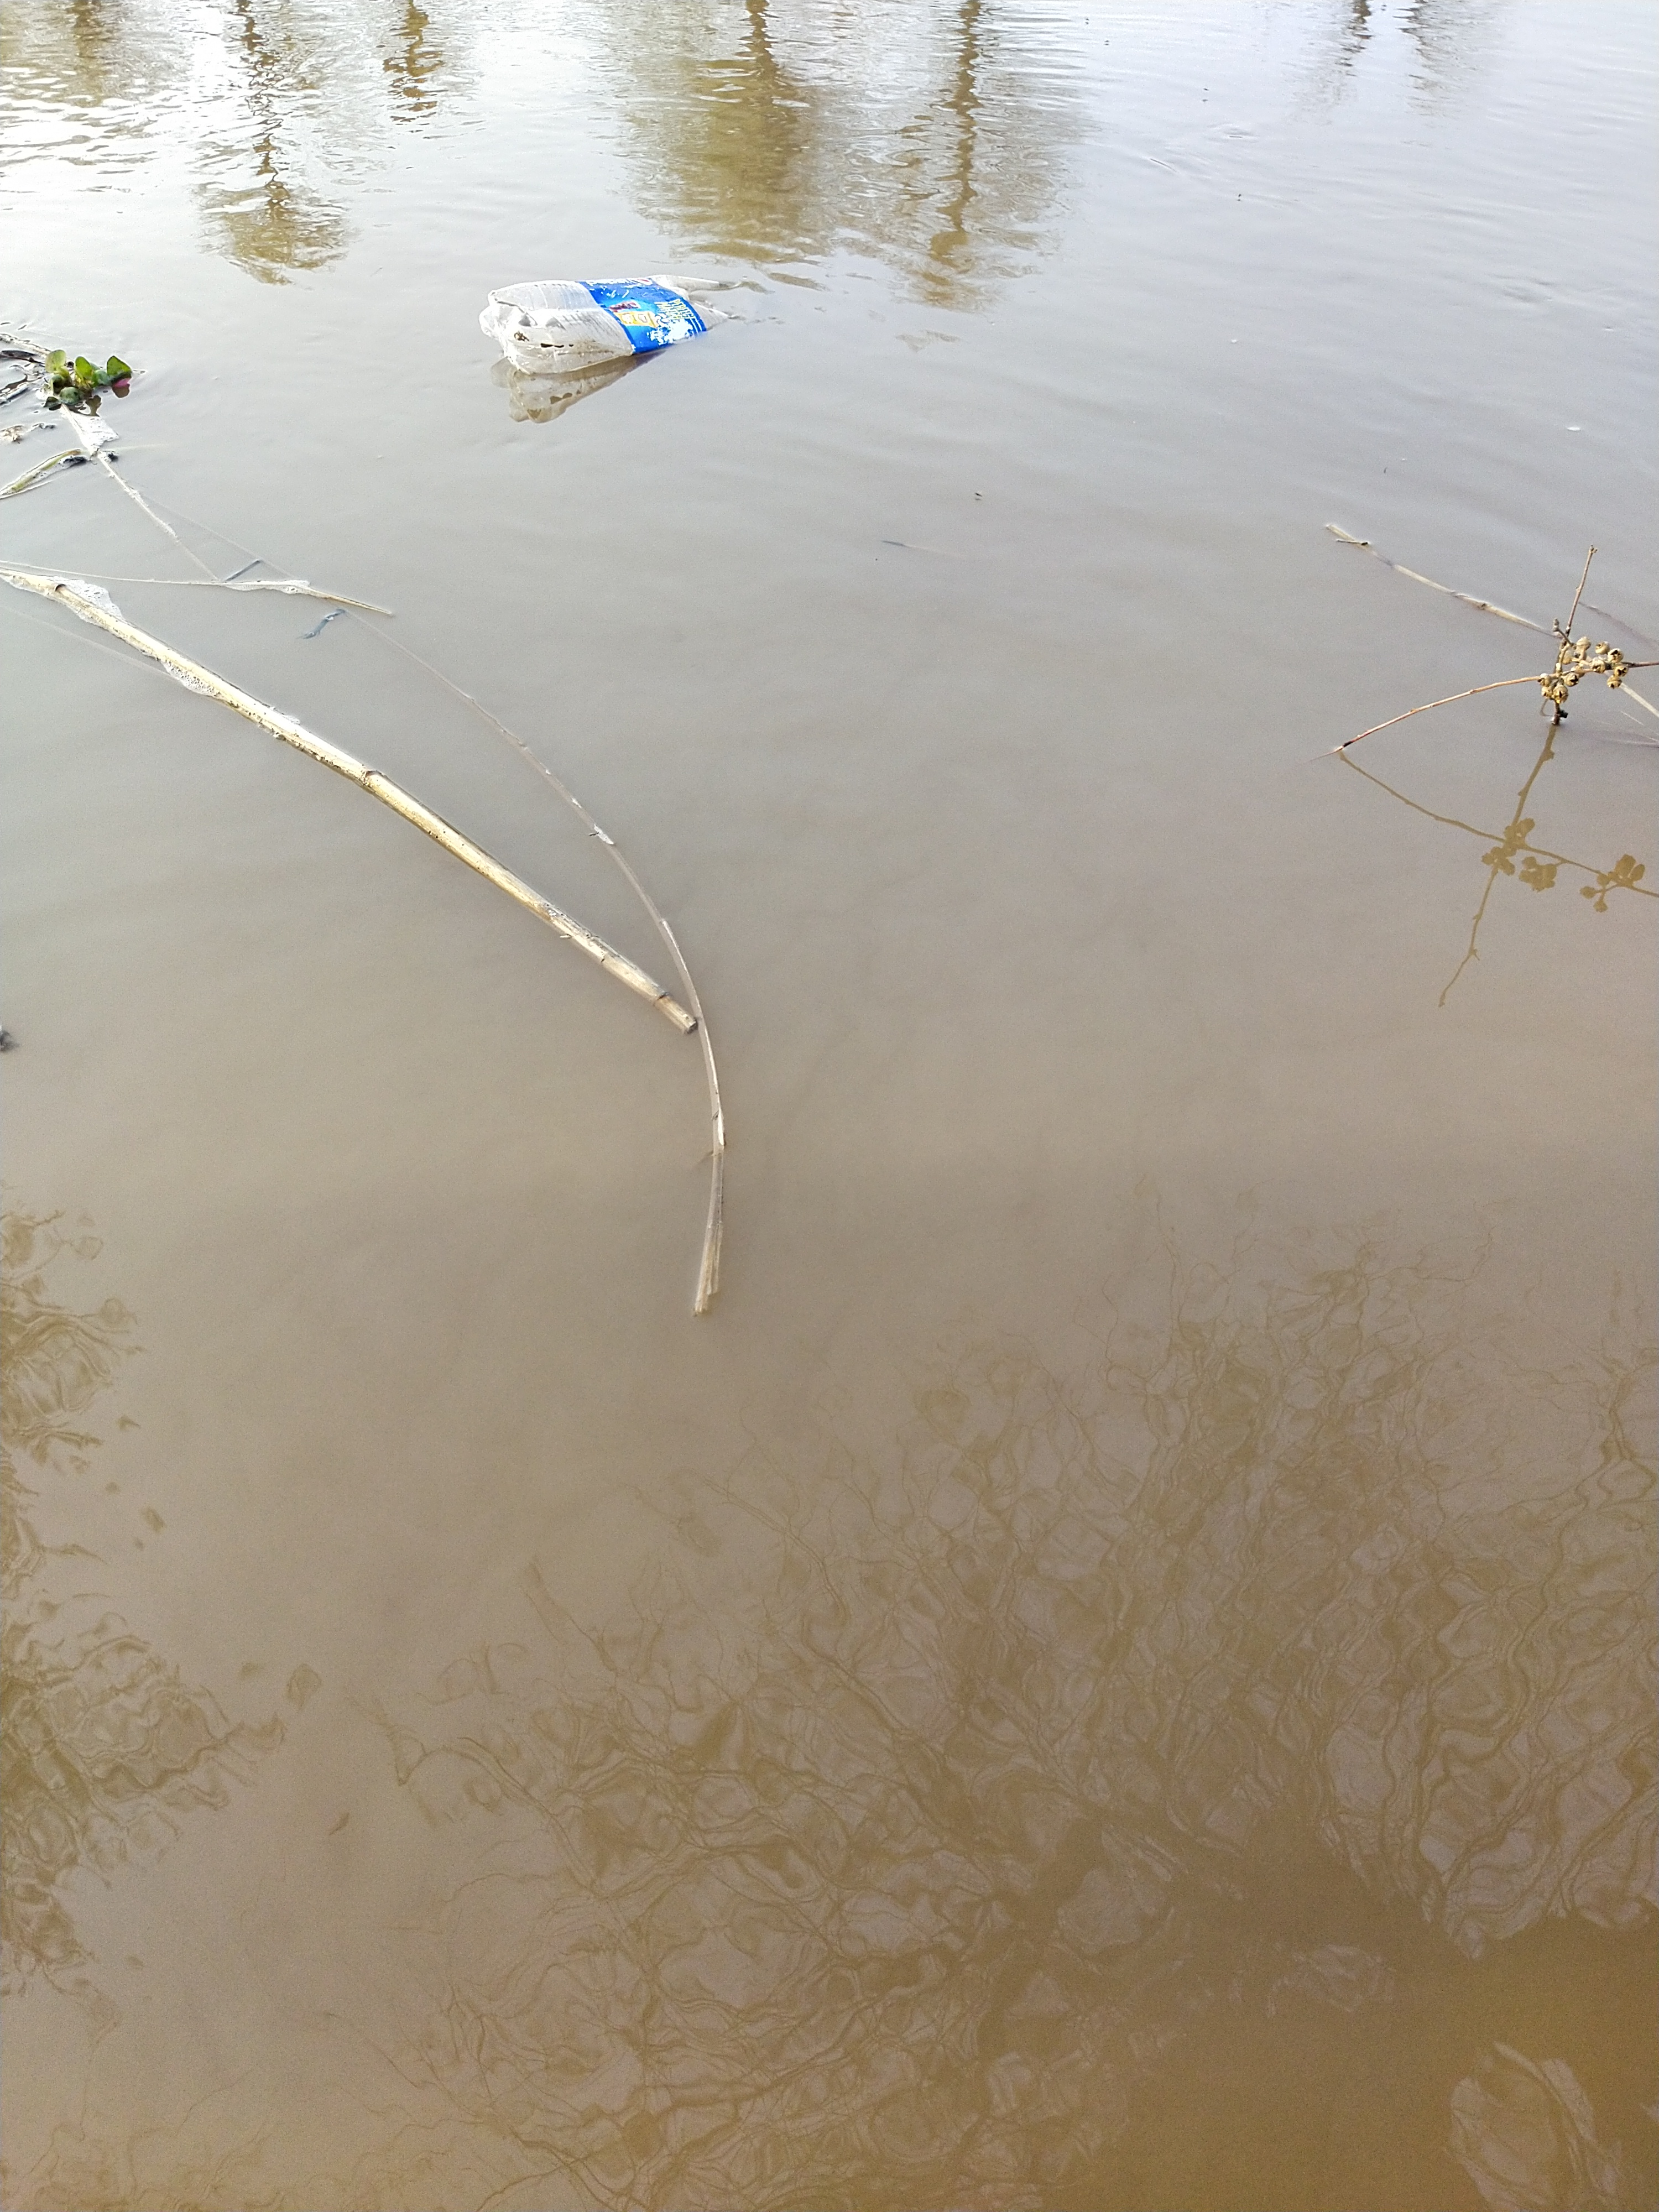Plastic Bottle: (481, 273, 728, 374)
